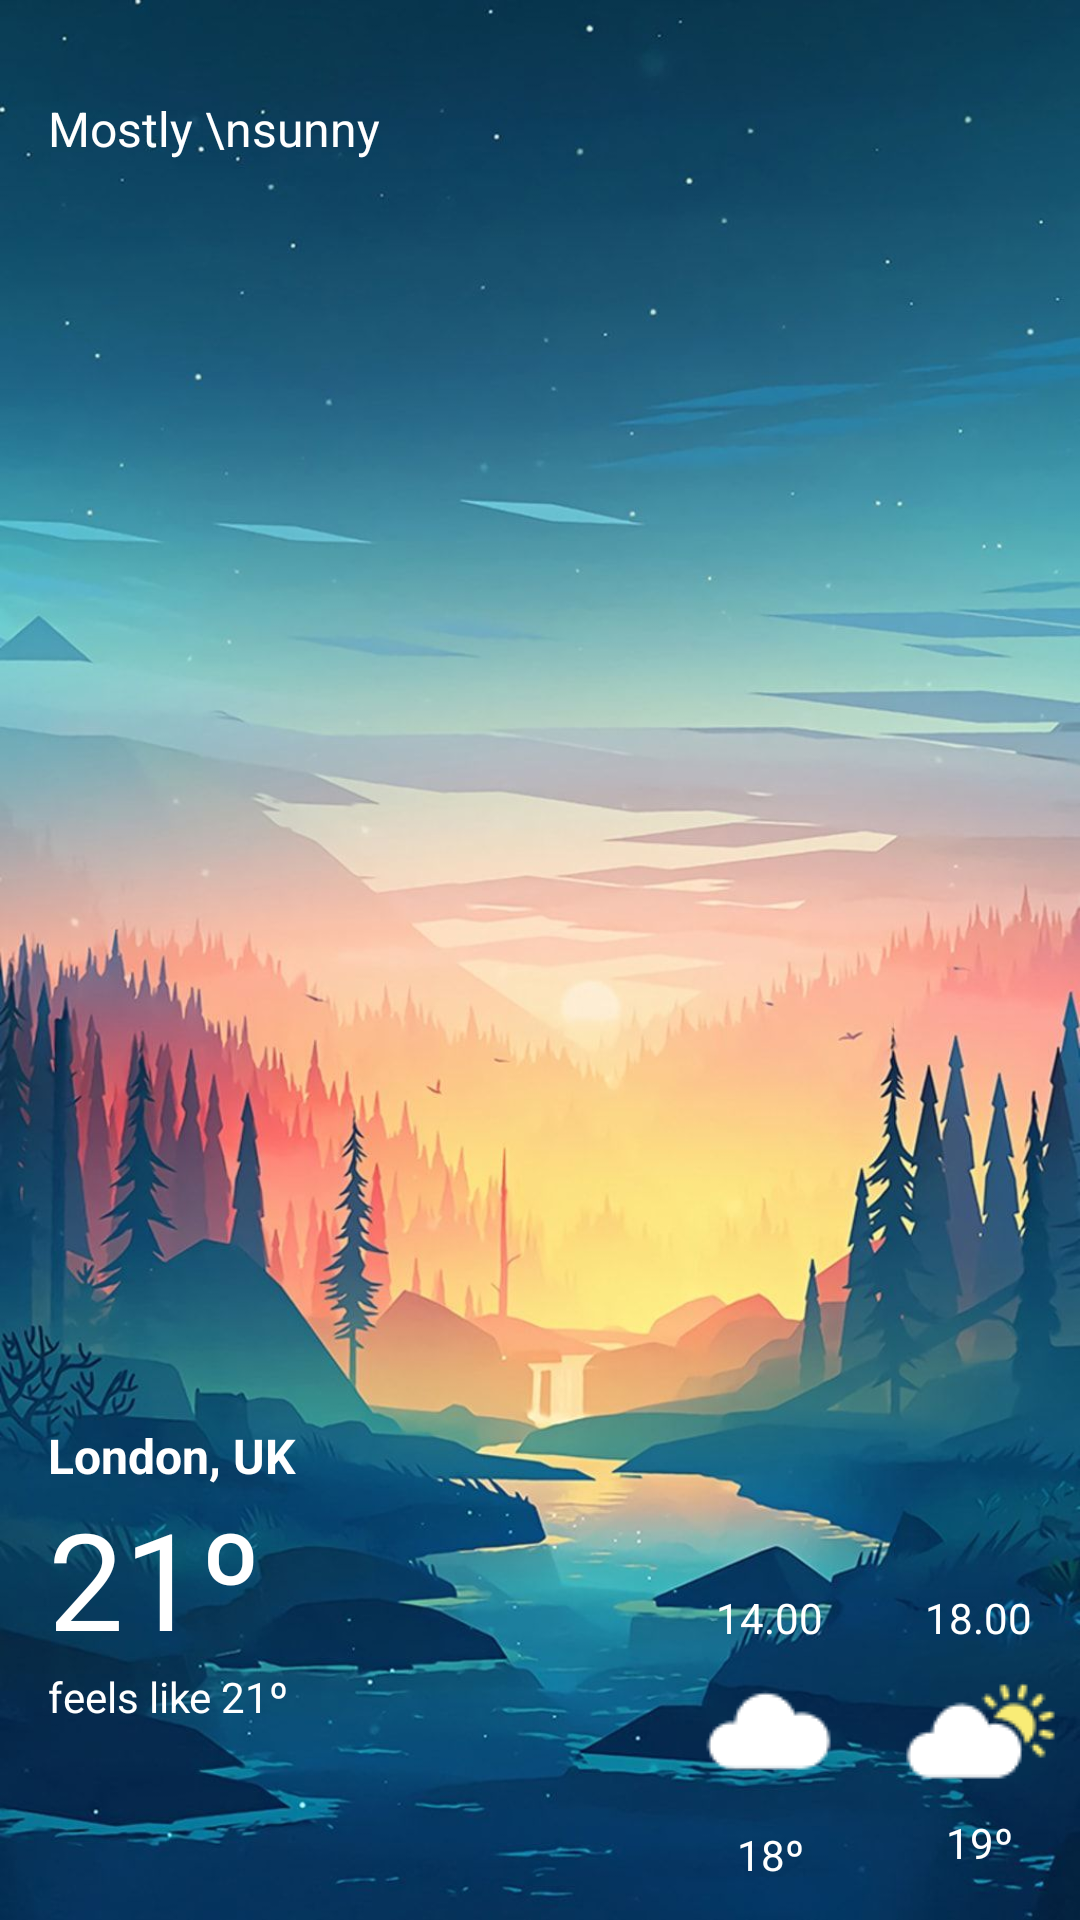

Locate icon controls on the screen. Image size 1080 x 1920, boxes as [x1=x1, y1=y1, x2=x2, y2=y2].
cloudy: [x1=680, y1=1646, x2=860, y2=1786]
partly cloudy: [x1=898, y1=1646, x2=1060, y2=1814]
